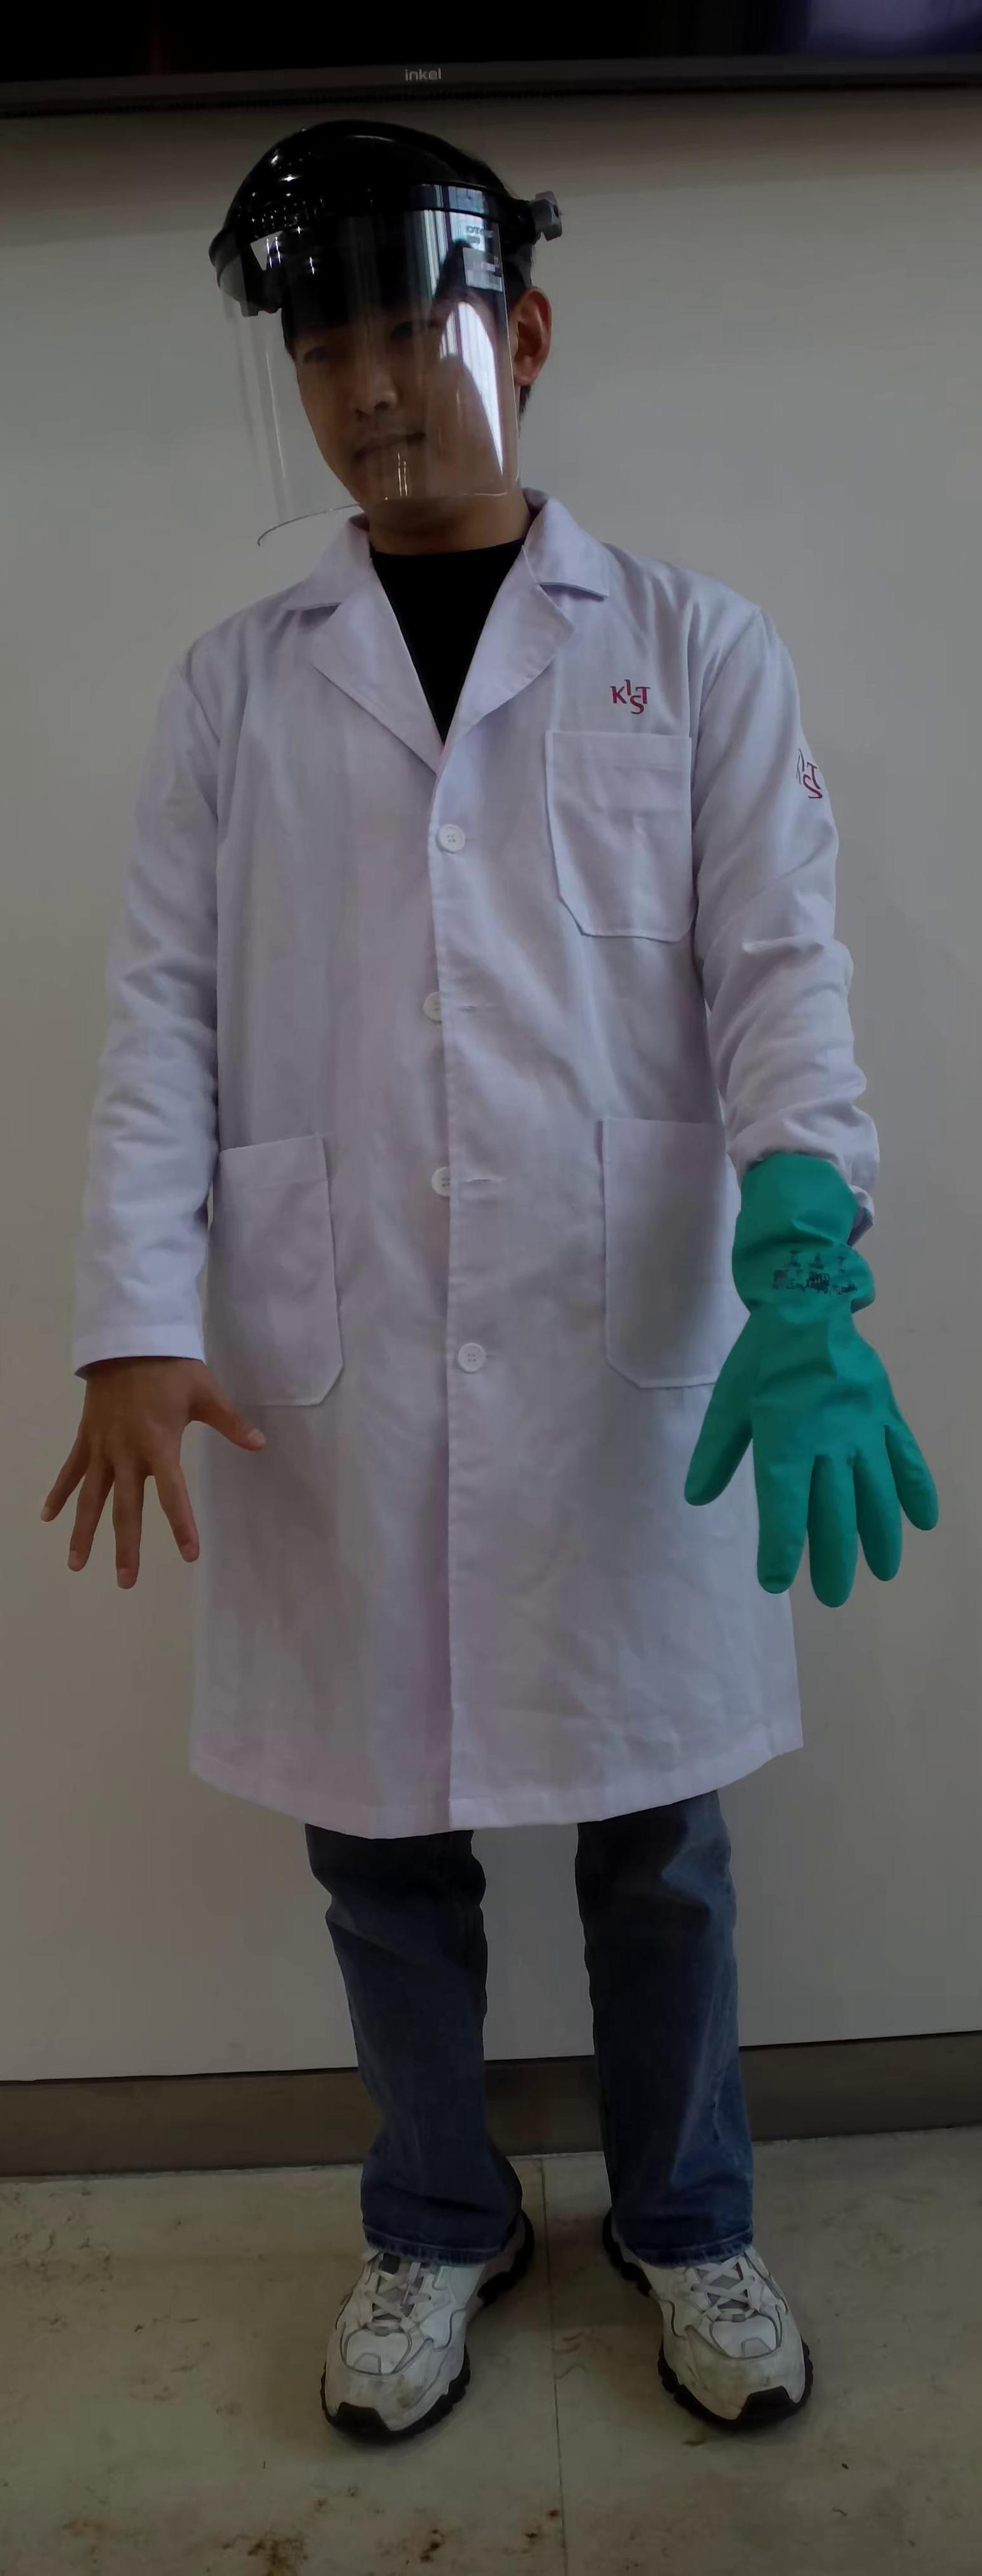lab_coat: (192, 593, 749, 1779)
